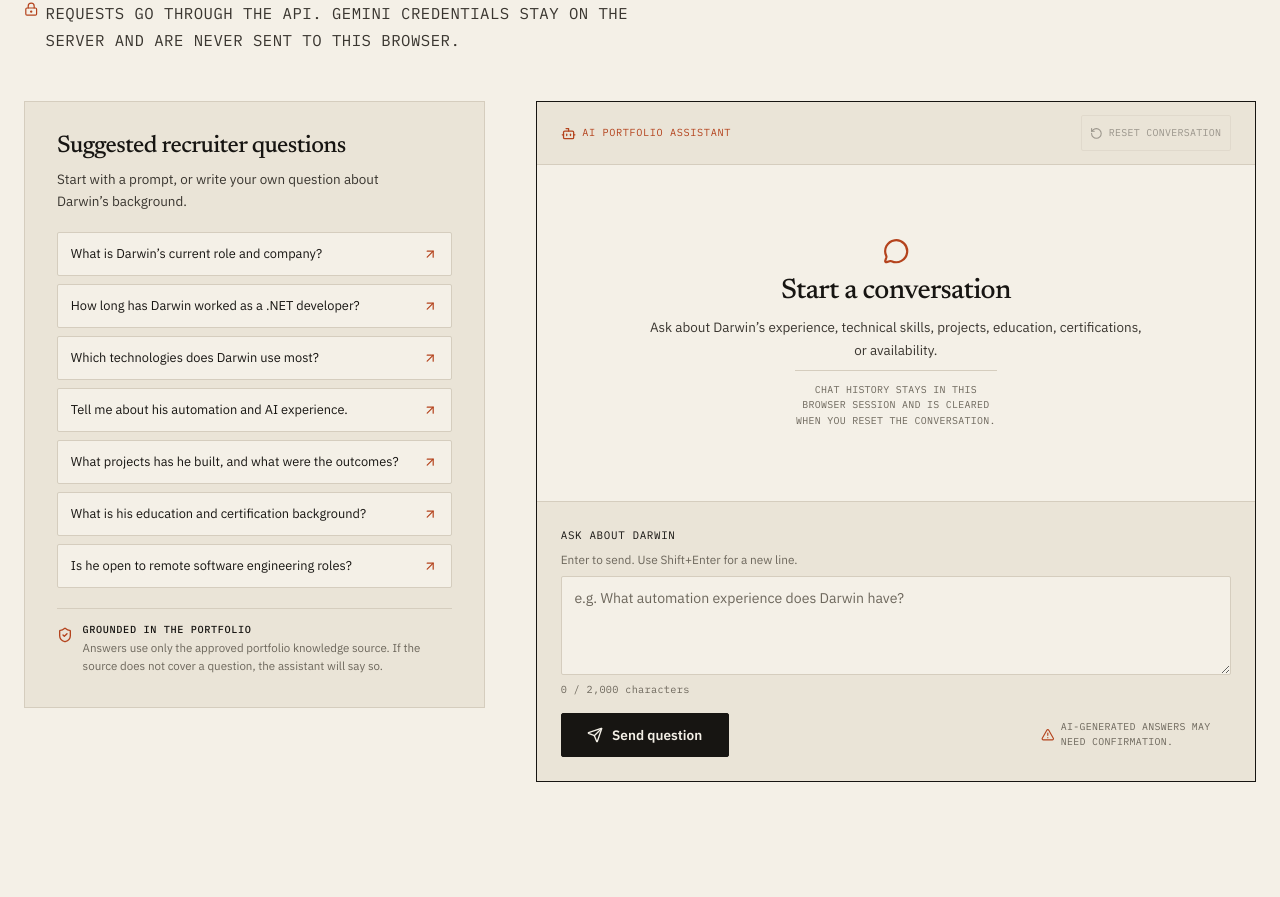
Scenario: PortfolioAssistantSection › does not repopulate a reset chat when an older response arrives late
This screenshot has width=1280, height=897.
(page scrolled)
Type "Tell me about Darwin." into the text box with id "assistant-question".
click(896, 625); type("Tell me about Darwin.")  # box [561, 576, 1231, 675]
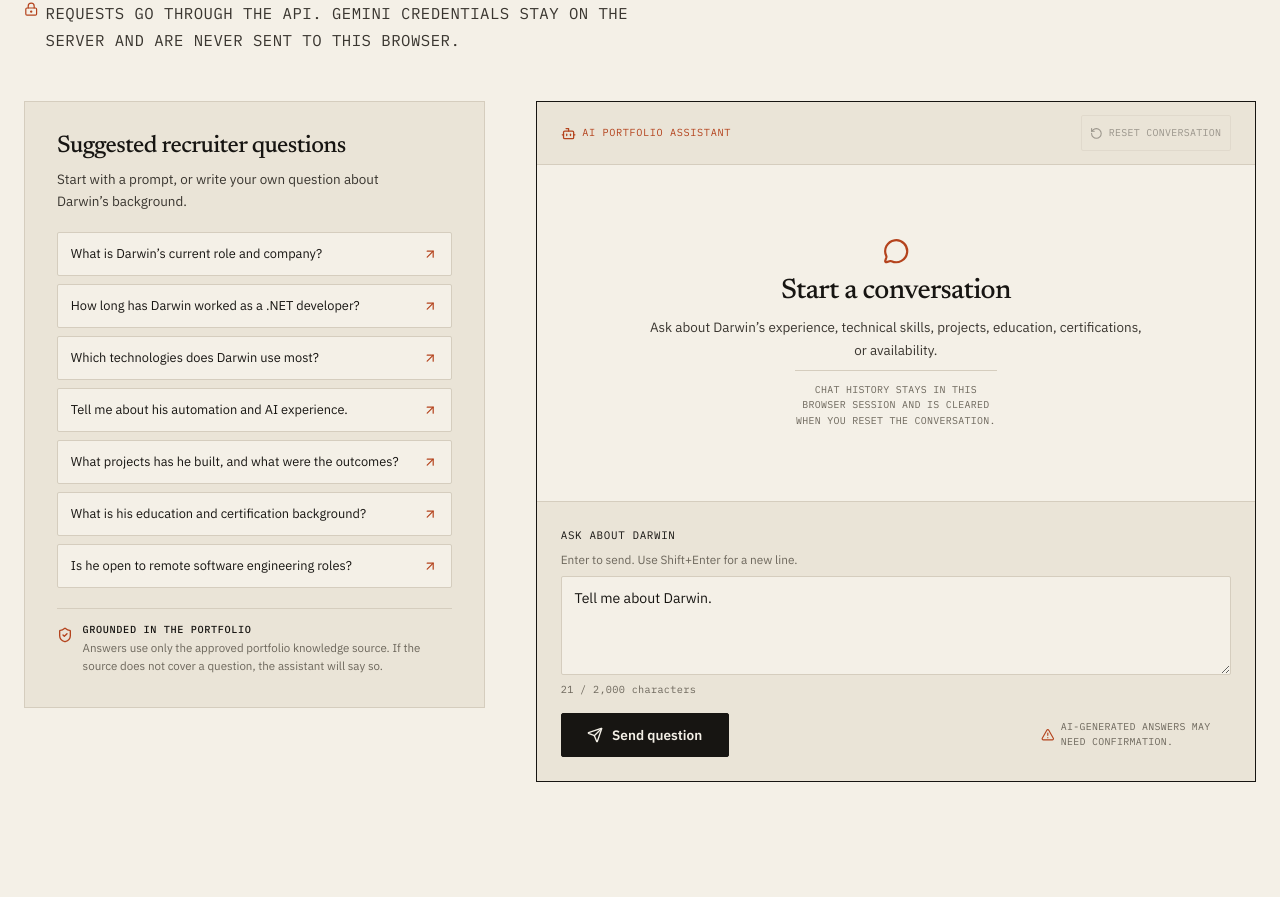
Submit the form, box [537, 501, 1255, 781]
(page scrolled)
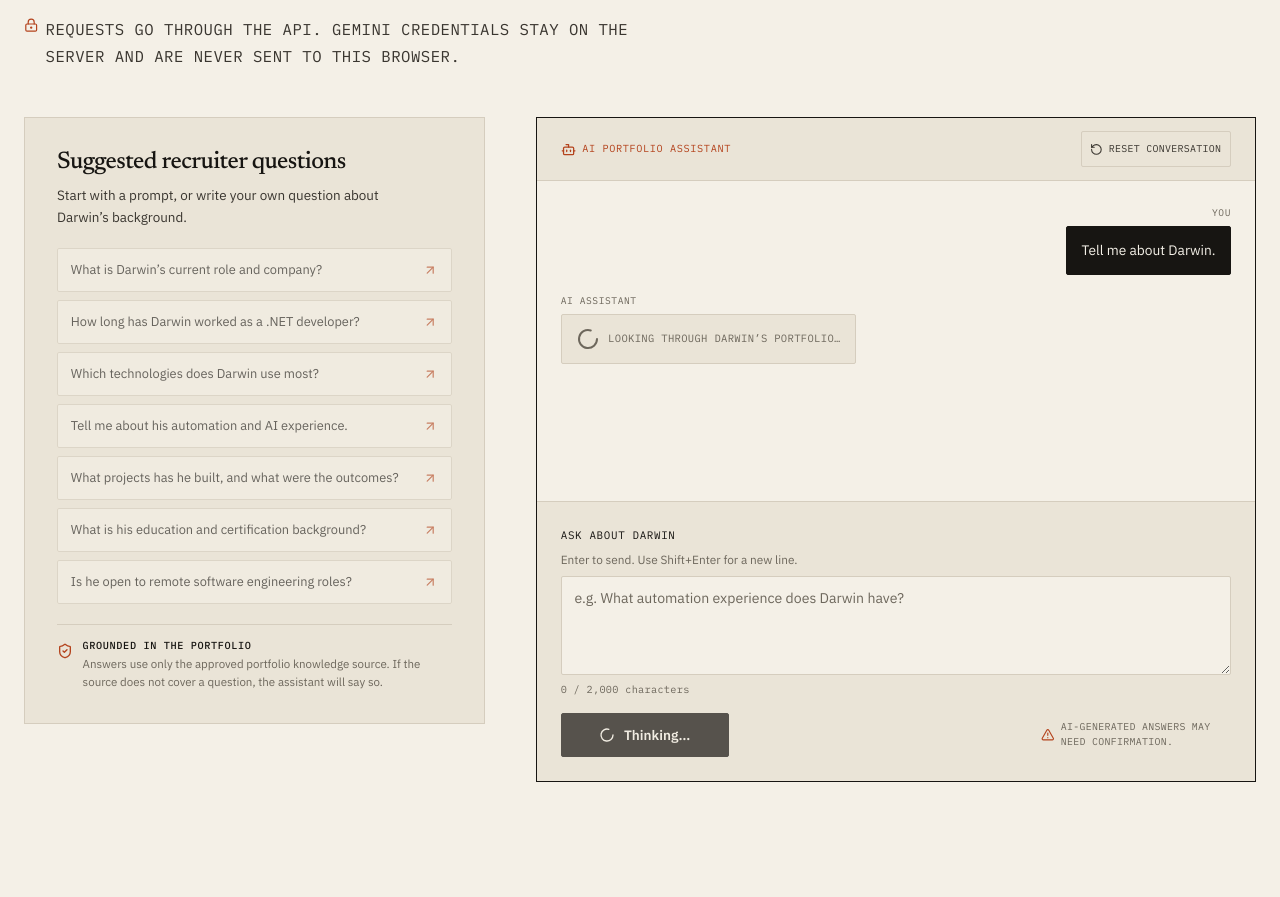
expect the element with class "assistant__chat" has attribute aria-busy="true": met, box [536, 117, 1256, 782]
Click the button with class "assistant__reset".
click(1156, 149)  # box [1081, 131, 1231, 167]
(page scrolled)
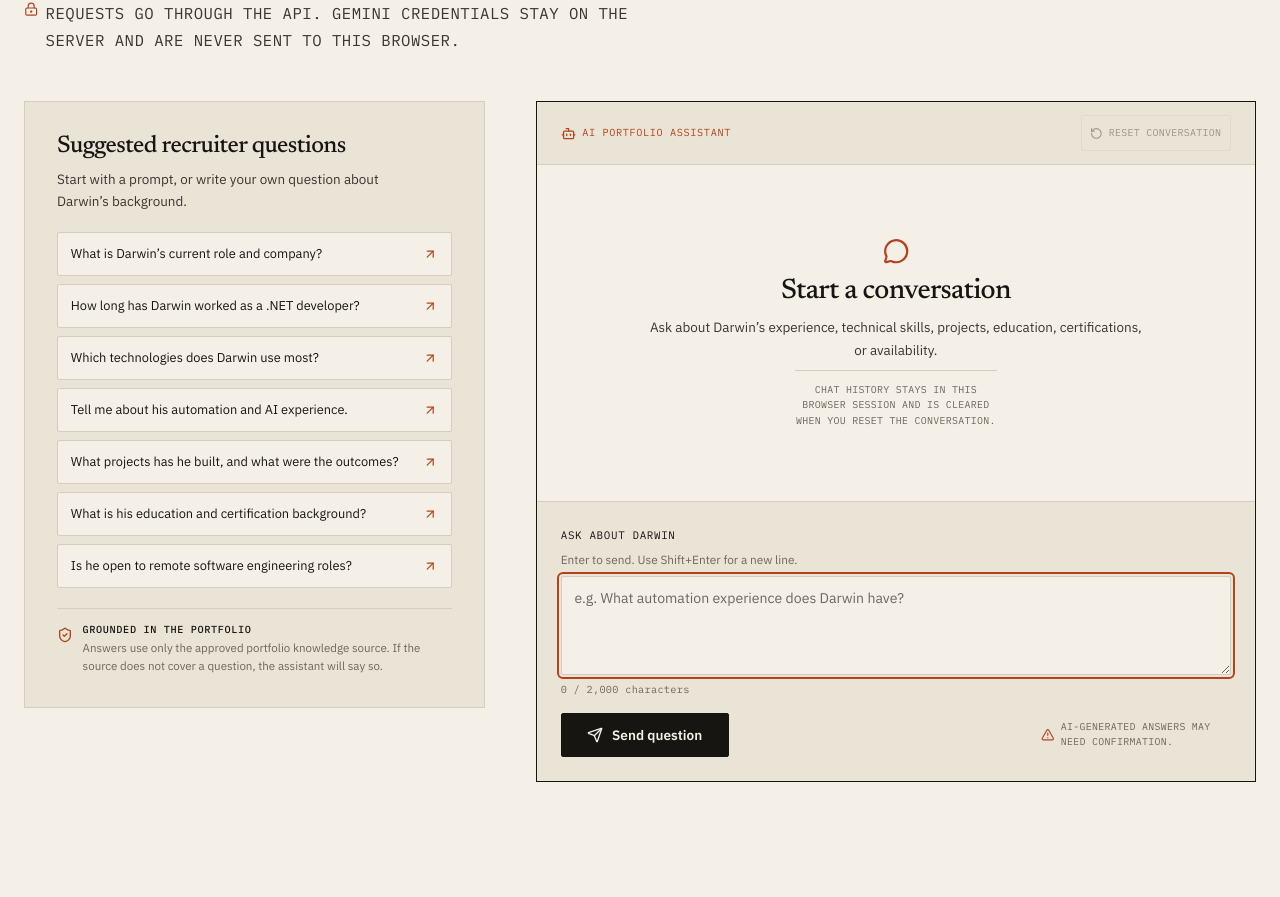
expect the button with class "assistant__reset" is disabled: met, box [1081, 115, 1231, 151]
expect the element with class "assistant__empty" is shown: met, box [608, 189, 1184, 477]
